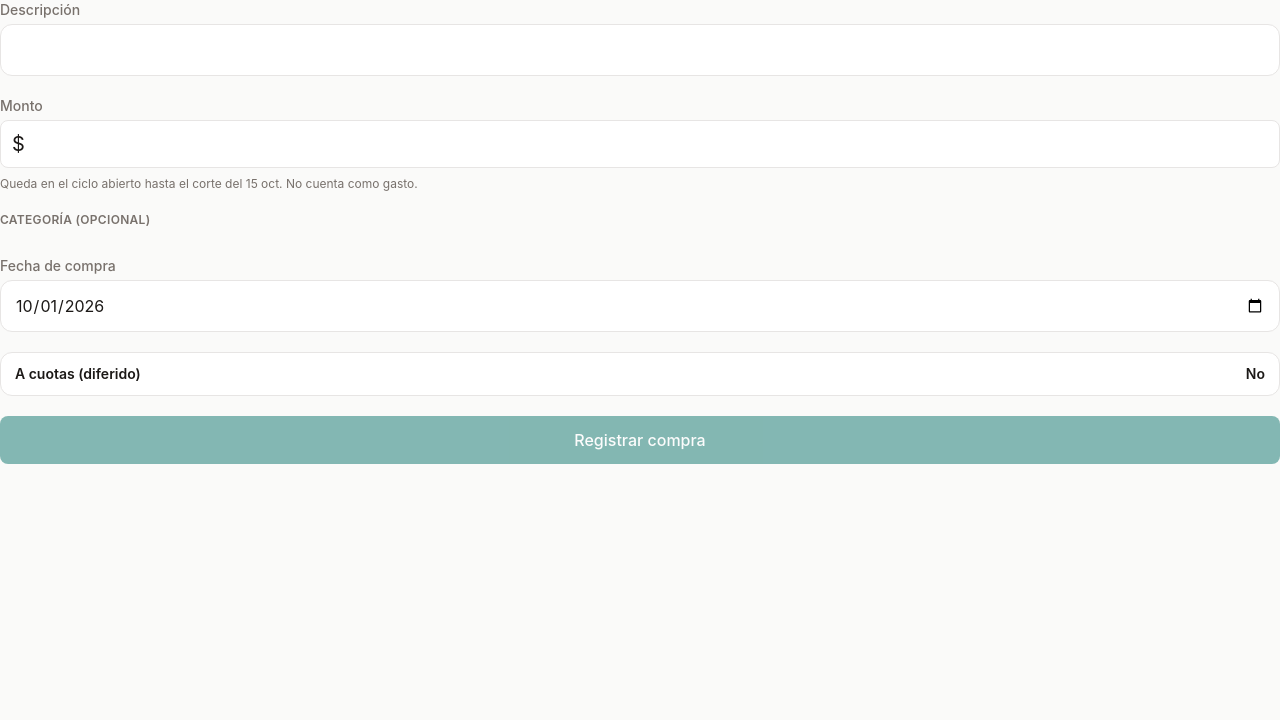
Test case: PurchaseForm › reveals the three installment fields together and requires them
Expected: the field labelled "Valor cuota" is not shown
Click the switch labelled "A cuotas (diferido) No".
click(78, 374)  # box [0,352,1279,396]
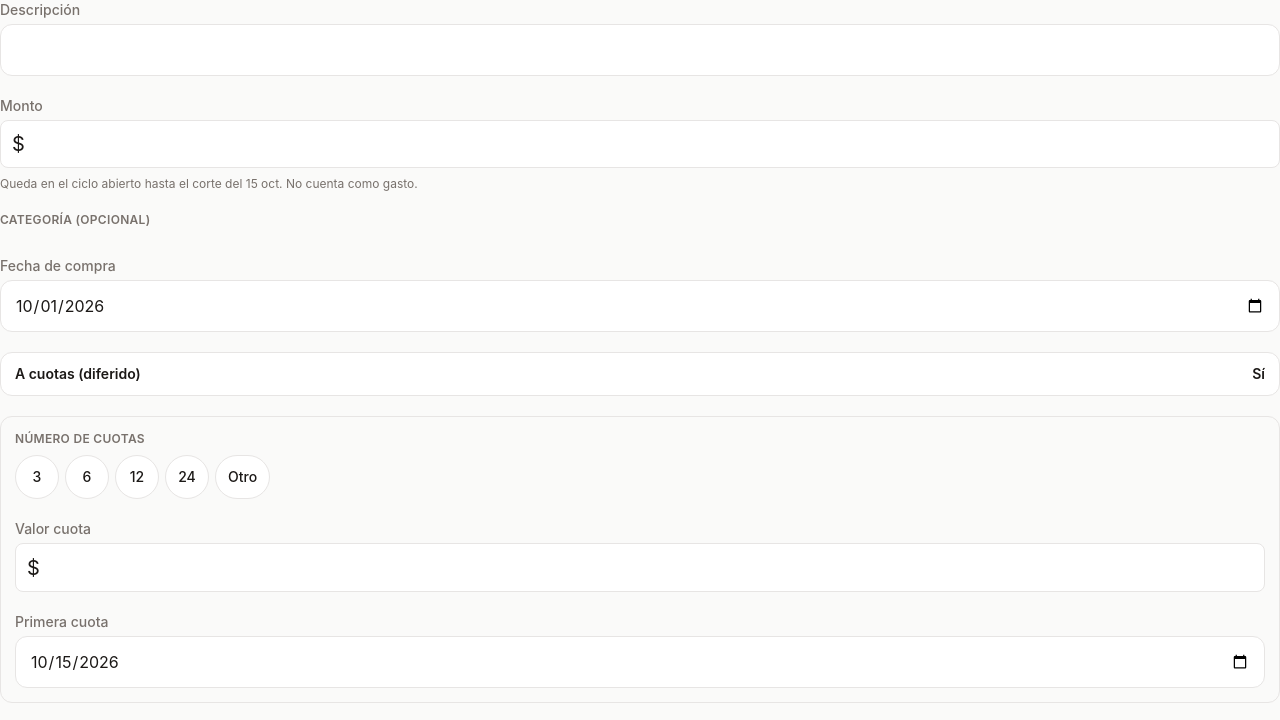
Now the field labelled "Valor cuota" is shown, box [15,543,1265,592]
Now the date field labelled "Primera cuota" is shown, box [15,636,1265,688]
Click the button "6".
click(87, 477)  # box [65,455,109,499]
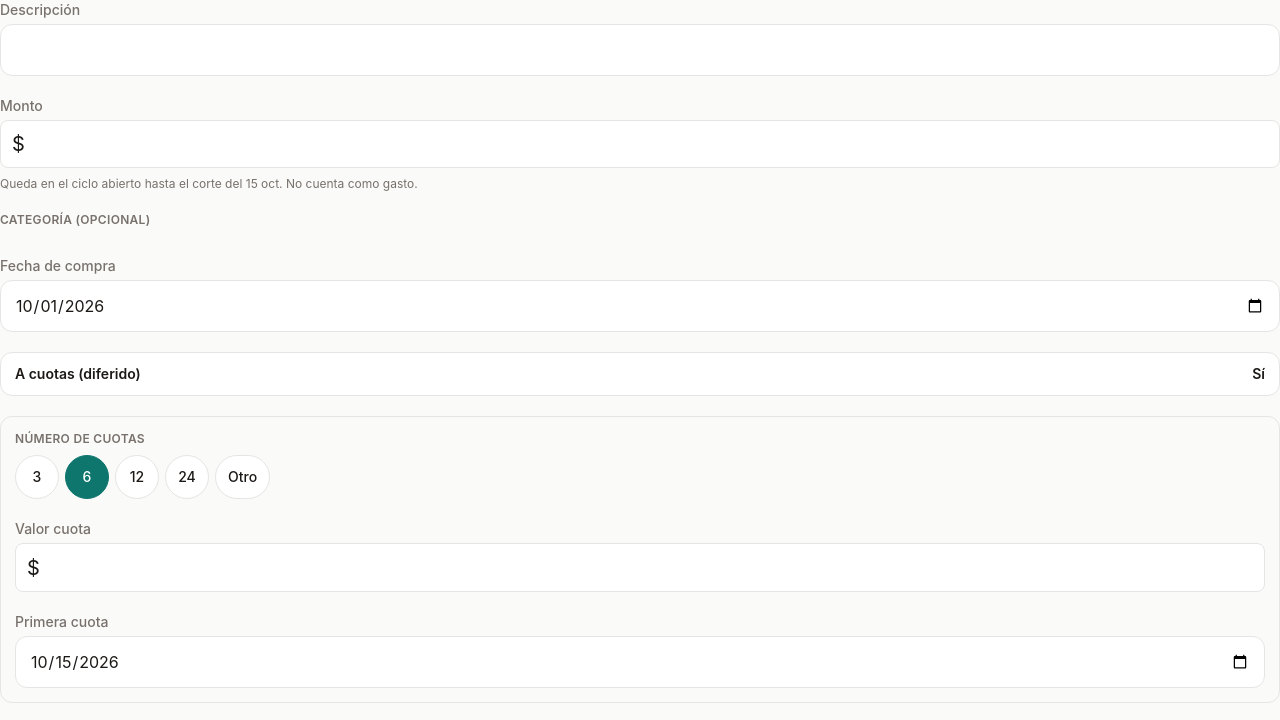
Type "Colchón" into the field labelled "Descripción".
click(640, 50); type("Colchón")  # box [0,24,1279,76]
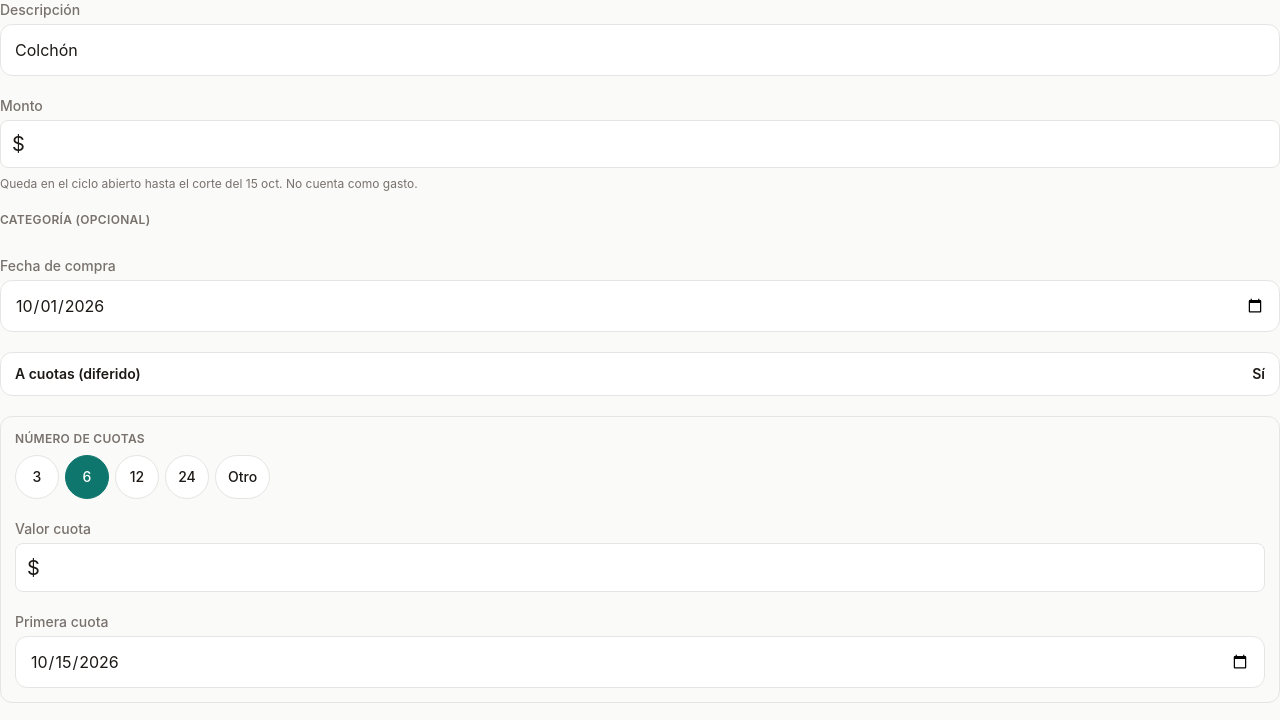
Type "1.080.000" into the field labelled "Monto".
click(640, 144); type("1.080.000")  # box [0,120,1279,168]
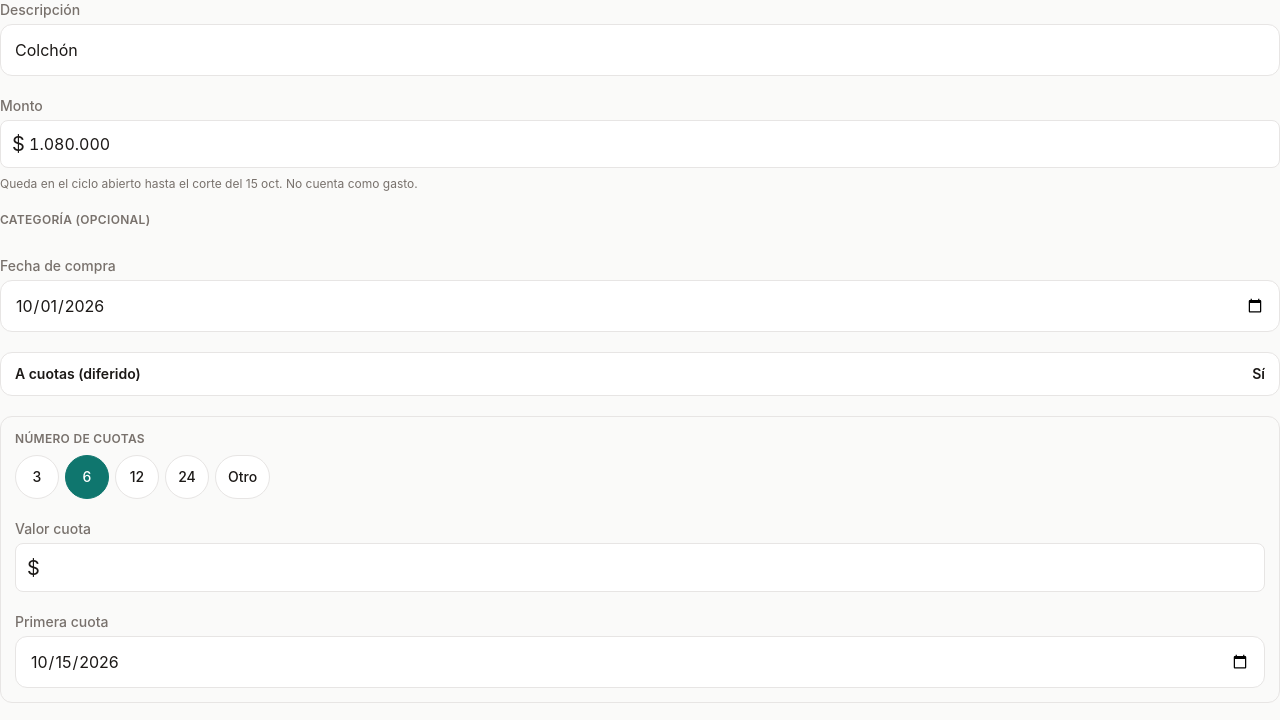
Now the field labelled "Valor cuota" is empty
Type "180.000" into the field labelled "Valor cuota".
click(640, 568); type("180.000")  # box [15,543,1265,592]
(page scrolled)
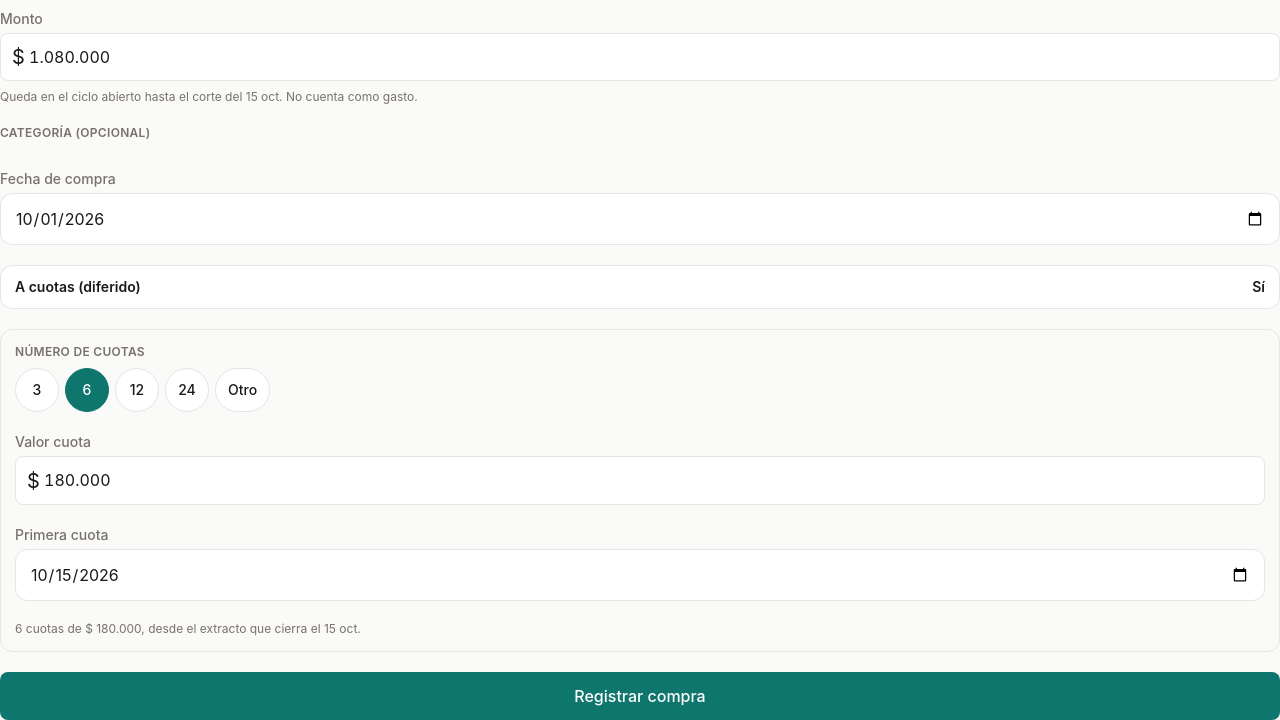
Now the button "Registrar compra" is enabled, box [0,672,1279,719]
